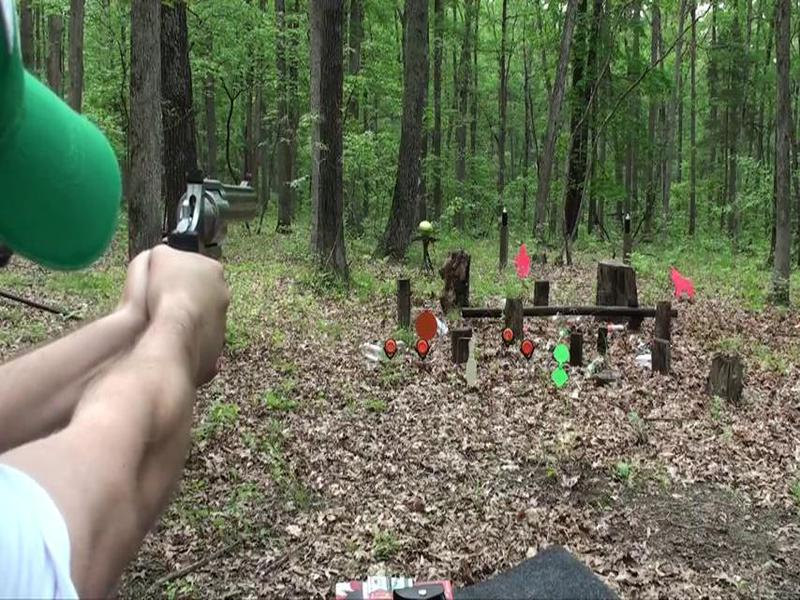Revolver: (129, 142, 265, 298)
